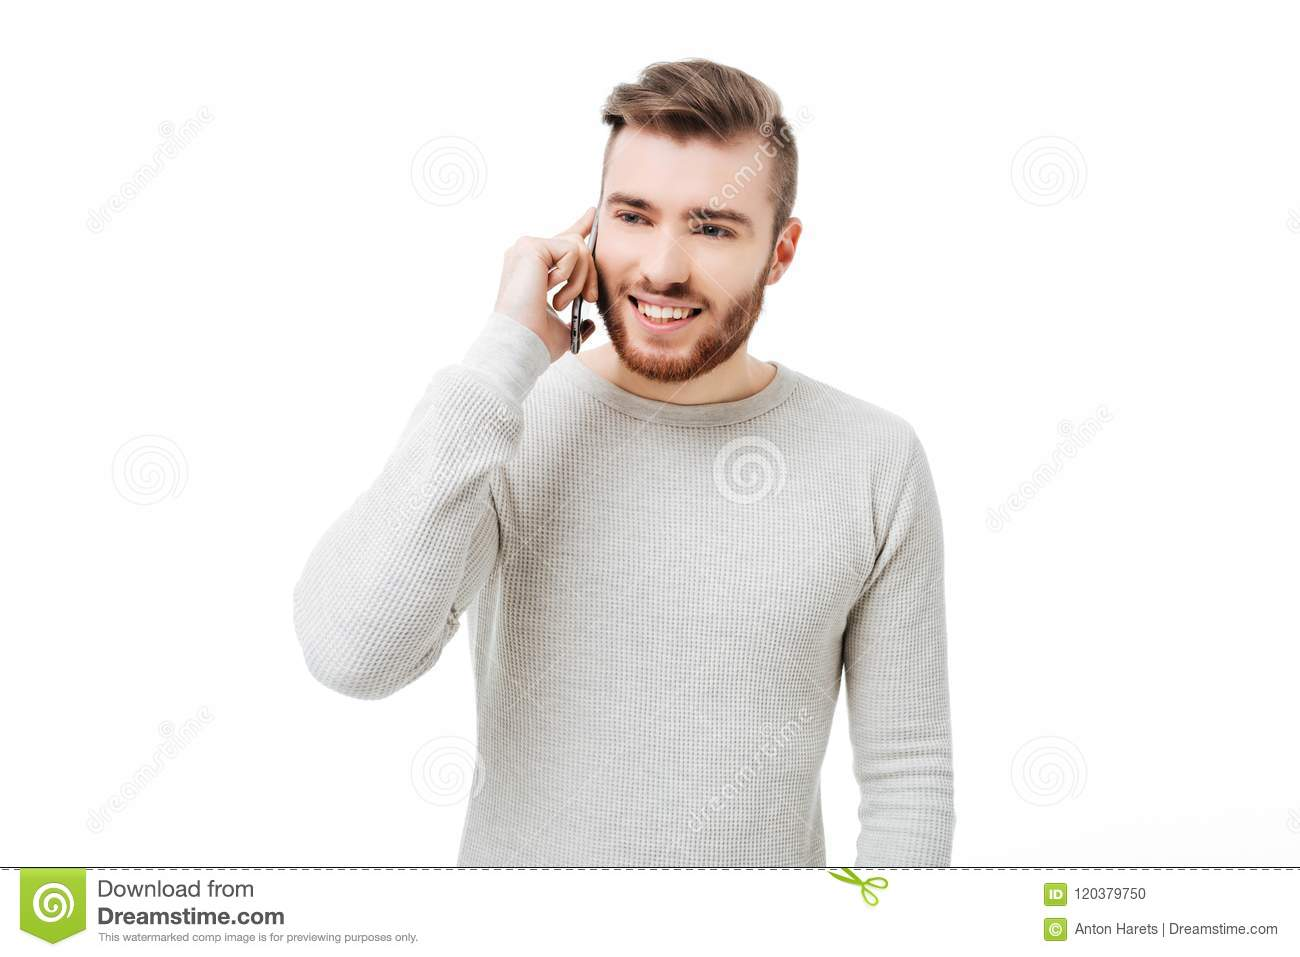phone: (571, 212, 598, 361)
talk: (492, 172, 753, 390)
